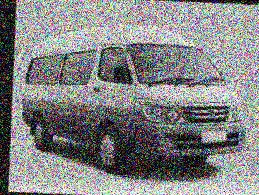van: (13, 16, 253, 173)
